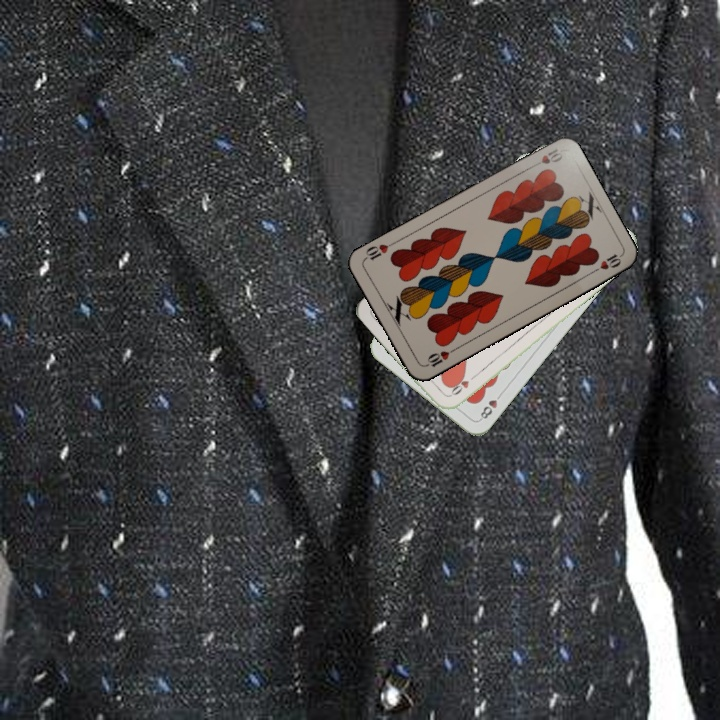H10: (526, 144, 565, 171), (421, 344, 458, 369)
H8: (475, 388, 505, 423)
HO: (446, 370, 480, 399)
